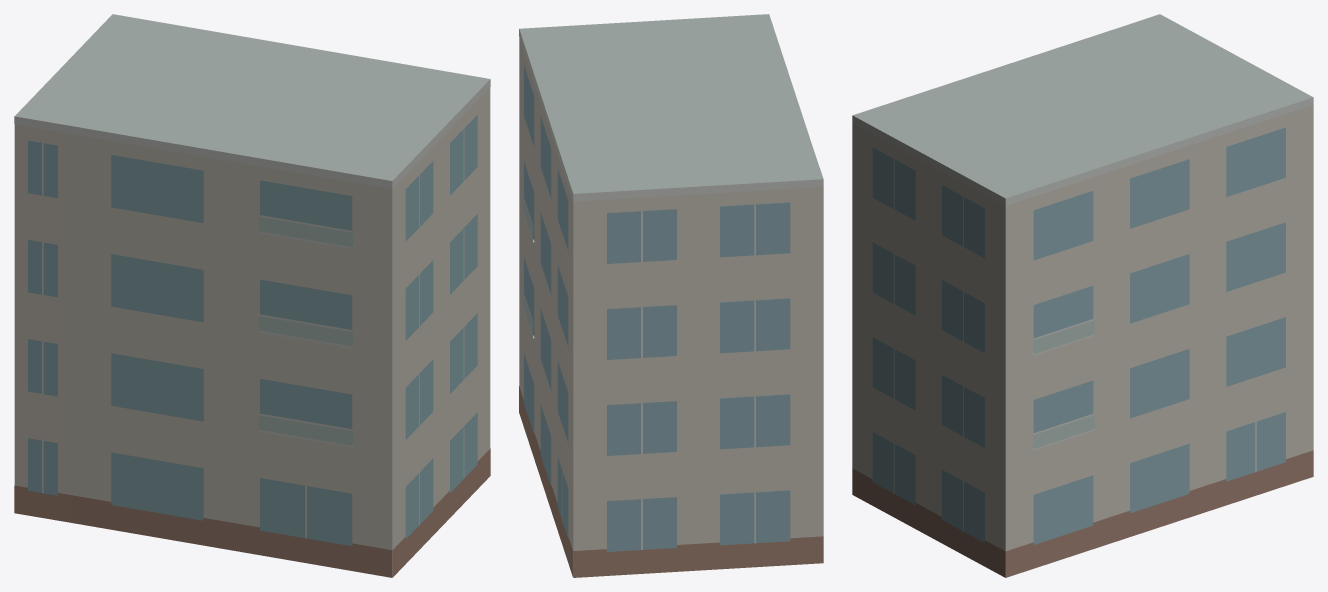
File: residential-87379f85-857a-43c1-9adf-b0825f8a8c39.glb
3 renders of one model, left to right at view 1: azimuth 30°, elevation 25°; view 2: azimuth 150°, elevation 25°; view 3: azimuth 270°, elevation 25°, orthographic. The views are drawn at different scales.
Visible parts, largest first — view 1: residential-87379f85-857a-43c1-9adf-b0825f8a8c39.tmp; view 2: residential-87379f85-857a-43c1-9adf-b0825f8a8c39.tmp; view 3: residential-87379f85-857a-43c1-9adf-b0825f8a8c39.tmp.
Part boxes in pixels (x1=…): residential-87379f85-857a-43c1-9adf-b0825f8a8c39.tmp: x1=14, y1=14, x2=490, y2=577; residential-87379f85-857a-43c1-9adf-b0825f8a8c39.tmp: x1=519, y1=14, x2=823, y2=577; residential-87379f85-857a-43c1-9adf-b0825f8a8c39.tmp: x1=852, y1=14, x2=1313, y2=577.
Size of the model in its own units: 12.73 by 12.2 by 13.45.
